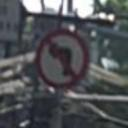NoVirarEsquerda: (34, 28, 91, 89)
